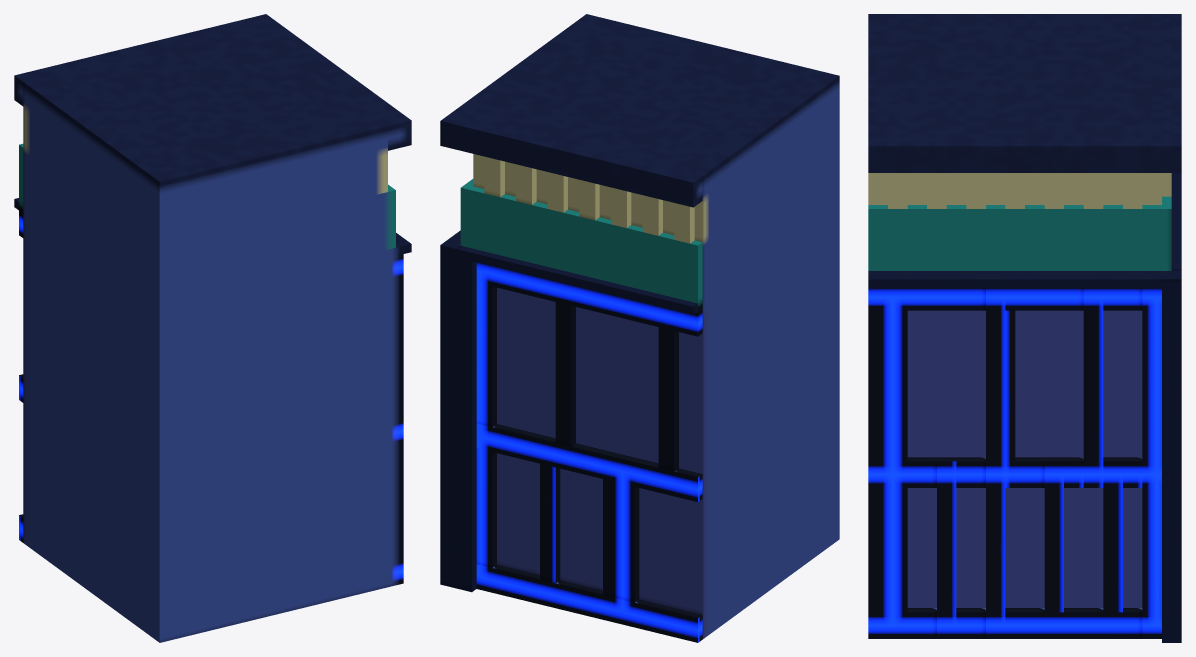
File: sklep_04_front.dae
3 renders of one model, left to right at view 1: azimuth 30°, elevation 25°; view 2: azimuth 150°, elevation 25°; view 3: azimuth 270°, elevation 25°, orthographic. The views are drawn at different scales.
Visible parts, largest first — view 1: Content; view 2: Content; view 3: Content.
Part boxes in pixels (box(x1,y1,x2,y2)): Content: box(14, 14, 411, 642); Content: box(440, 14, 839, 642); Content: box(868, 14, 1181, 642).
Size of the model in its own units: 32 by 56 by 32.
Materials: 1 (1 with a texture image).
